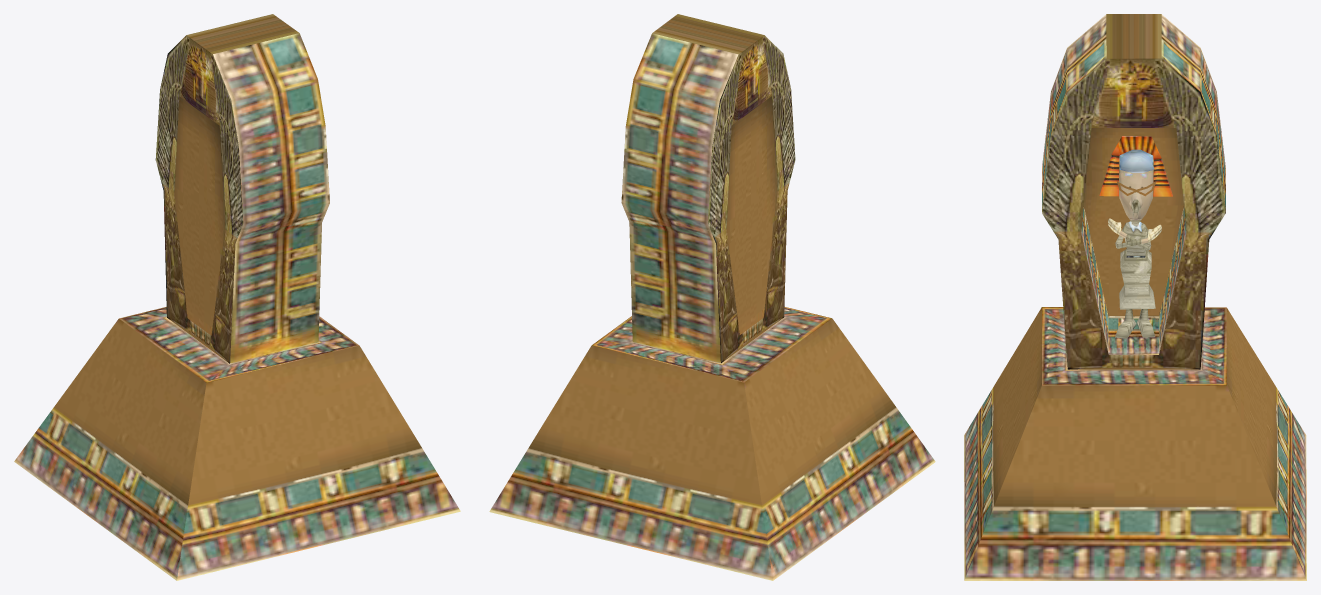
Rendered from fowlmummybase.glb.
3 views of the same model, side by side, from view 1: azimuth 30°, elevation 25°; view 2: azimuth 150°, elevation 25°; view 3: azimuth 270°, elevation 25° (orthographic). The views are drawn at different scales.
Visible parts, largest first — view 1: fowlmummybase_m0575a0f0; view 2: fowlmummybase_m0575a0f0; view 3: fowlmummybase_m0575a0f0.
Part boxes in pixels (box(x1,y1,x2,y2)): fowlmummybase_m0575a0f0: box(14, 14, 460, 580); fowlmummybase_m0575a0f0: box(489, 14, 935, 580); fowlmummybase_m0575a0f0: box(964, 14, 1306, 580).
Size of the model in its own units: 439 by 666 by 436.
1 material, 1 textured.
